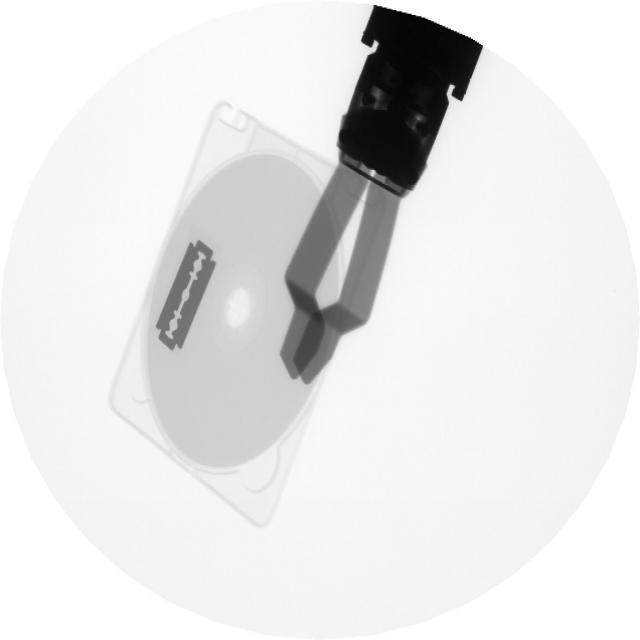BLADE: (153, 230, 225, 358)
